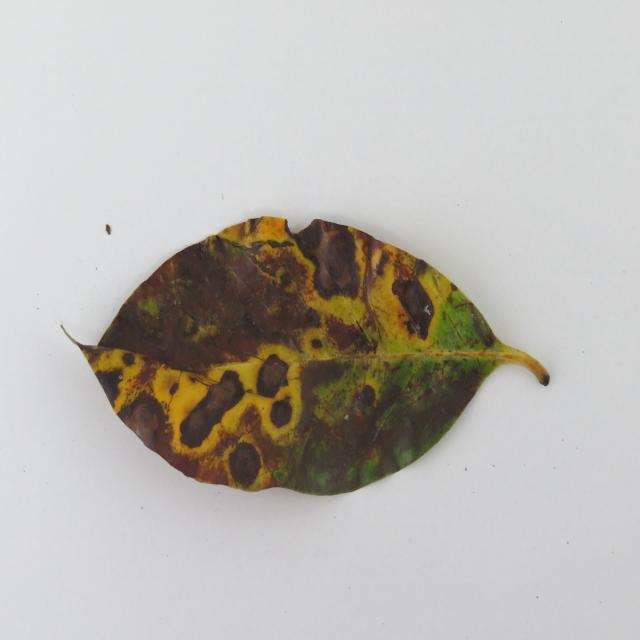DeficienciaNutricional-Potasio: (75, 217, 549, 495)
